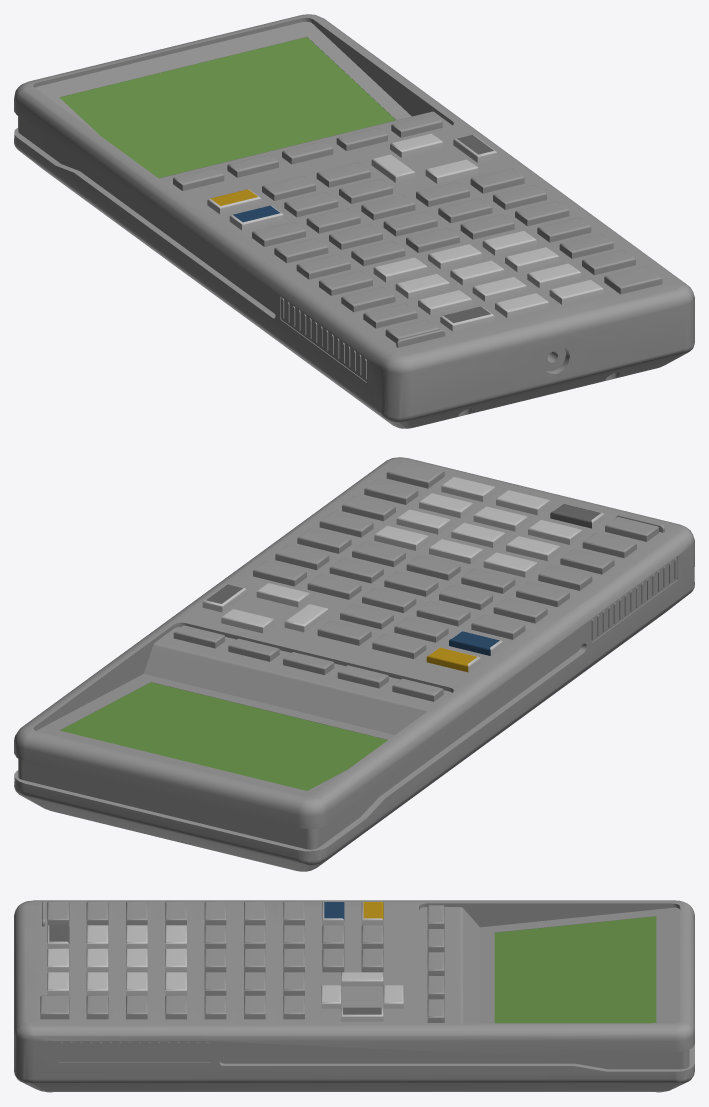
The model's file is 10418_Texas_Instruments_Ti85.fbx.
3 renders of one model, top to bottom at view 1: azimuth 30°, elevation 25°; view 2: azimuth 150°, elevation 25°; view 3: azimuth 270°, elevation 25°, orthographic. The views are drawn at different scales.
Visible parts, largest first — view 1: obj0; view 2: obj0; view 3: obj0.
Part boxes in pixels (x1,y1,x2,y2): obj0: [14, 14, 694, 428]; obj0: [14, 457, 694, 871]; obj0: [14, 900, 694, 1092].
Bounding box in the file's own units: 0.205 × 0.0578 × 0.4402.
